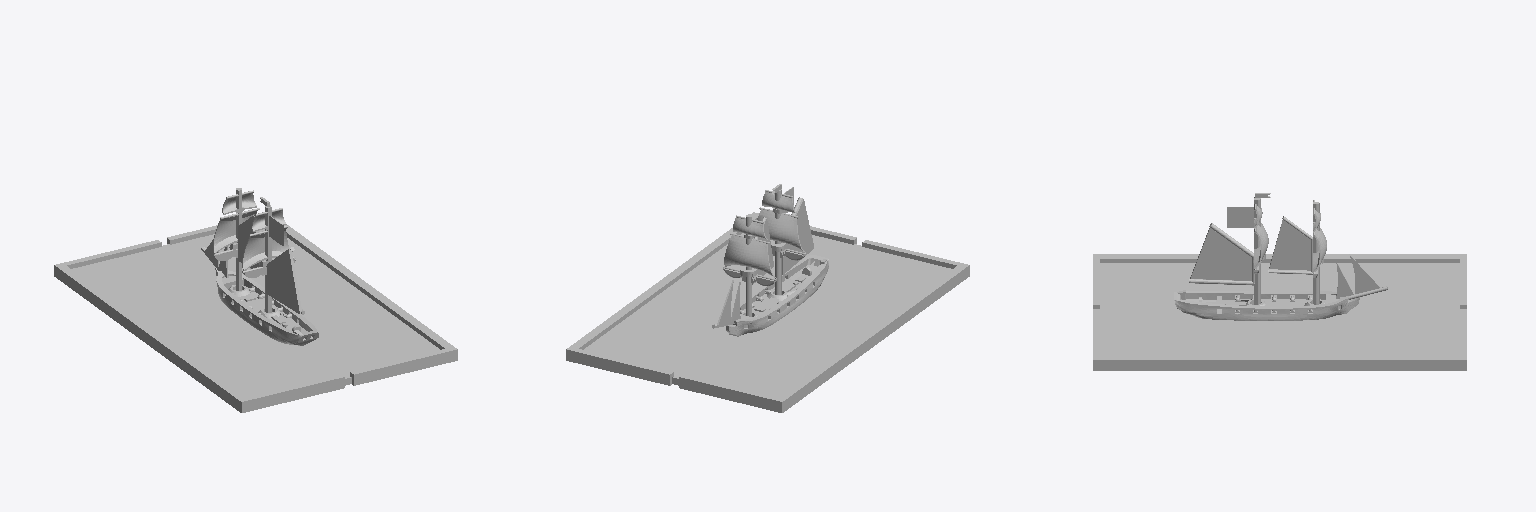
Rendered from SOG_brig.obj.
3 renders of one model, left to right at view 1: azimuth 30°, elevation 25°; view 2: azimuth 150°, elevation 25°; view 3: azimuth 270°, elevation 25°, orthographic.
Visible parts, largest first — view 1: SOG_brig.obj; view 2: SOG_brig.obj; view 3: SOG_brig.obj.
Boxes of the visible parts, <box> form: SOG_brig.obj: <box>54,188,457,412</box>; SOG_brig.obj: <box>566,184,969,412</box>; SOG_brig.obj: <box>1093,193,1466,370</box>.
Bounding box in the file's own units: 4.3 × 2.37 × 6.45.